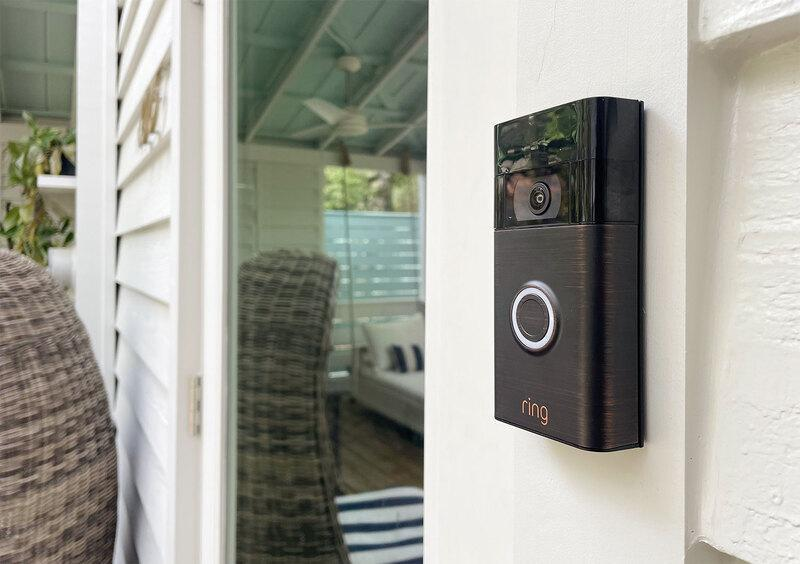doorbell: (478, 100, 648, 454)
